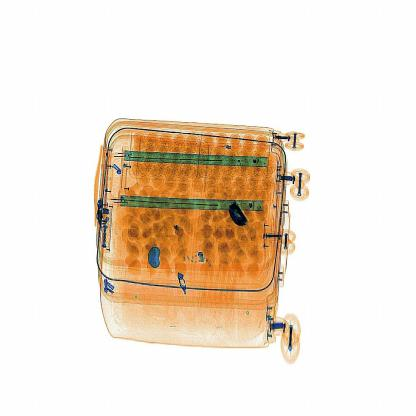scissors: (218, 194, 261, 236)
